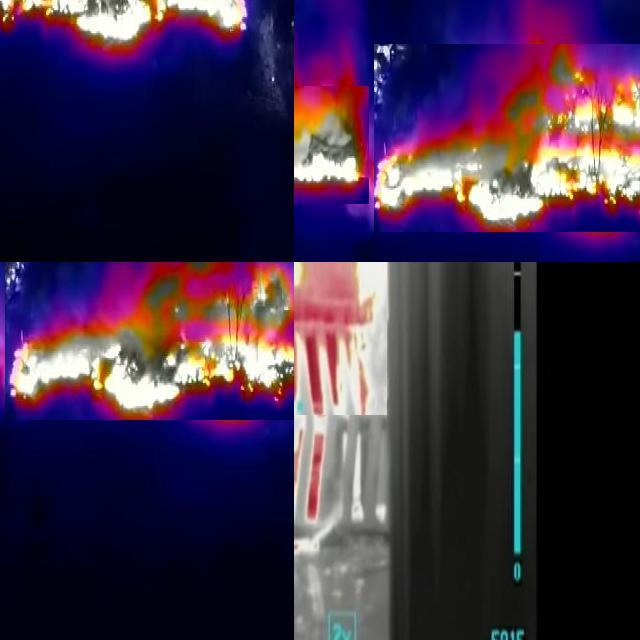fire: (374, 43, 640, 232), (5, 263, 295, 420), (295, 263, 387, 415), (1, 1, 252, 49), (295, 86, 369, 204)
